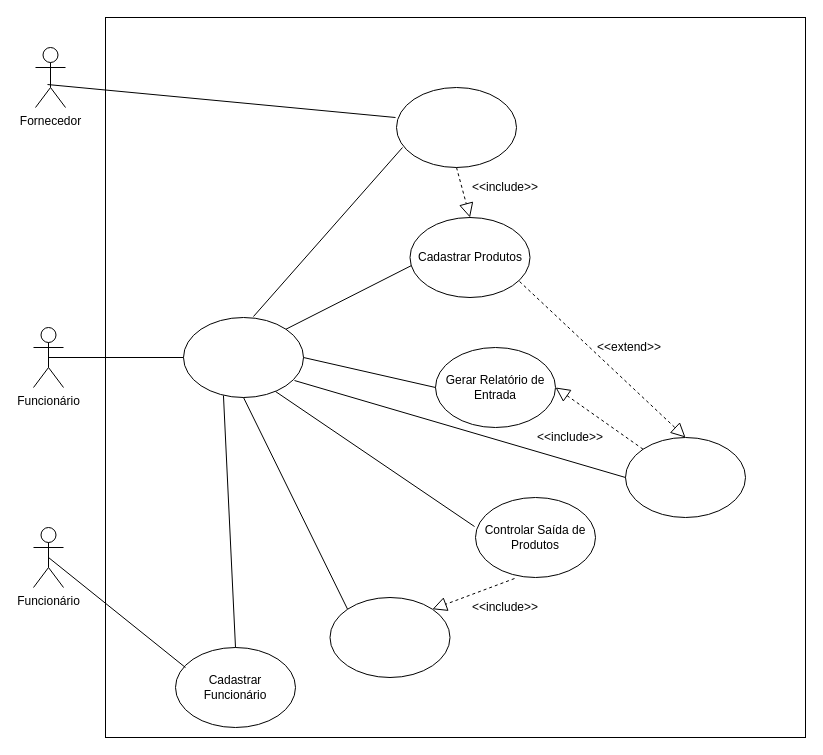
The diagram is 823 pixels wide and 755 high, and some of its shapes have lost their labels. The shapes that lost their labels are listed below. From the top down, each one's centre as x and y in pixels, then its label:
At point 456,127: "Cadastrar Fornecedor".
At point 243,357: "Validar Acesso".
At point 685,477: "Controlar Entrada de Produtos".
At point 389,637: "Gerar Relatório de Saída".
